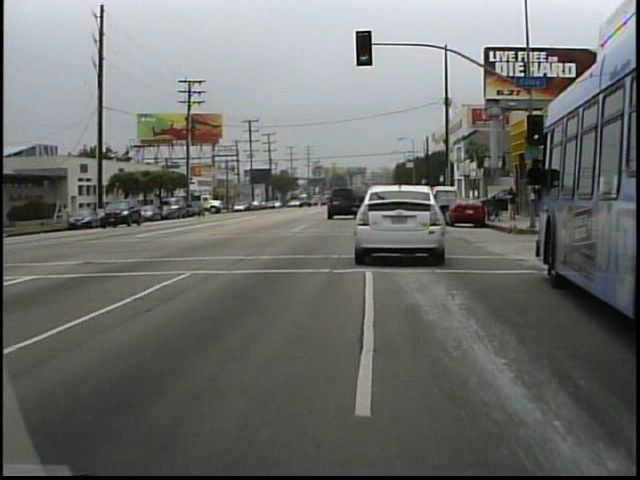person: (502, 181, 523, 228), (70, 203, 71, 228)
